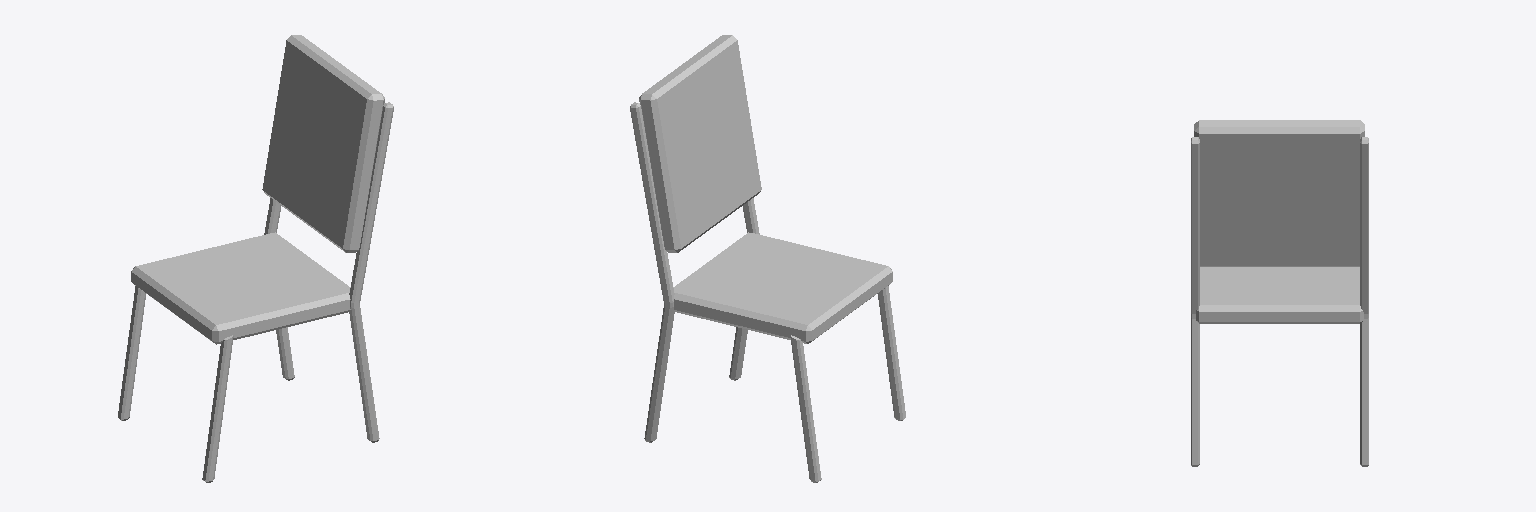
File: Seat.obj
The picture shows the model from 3 angles: view 1: azimuth 30°, elevation 25°; view 2: azimuth 150°, elevation 25°; view 3: azimuth 270°, elevation 25°; orthographic projection.
Parts seen in each view (by area): view 1: Seat; view 2: Seat; view 3: Seat.
Part boxes in pixels (left/top/right/bottom): Seat: left=118, top=35, right=393, bottom=482; Seat: left=630, top=35, right=905, bottom=482; Seat: left=1191, top=120, right=1368, bottom=466.
Bounding box in the file's own units: 2.56 × 4.46 × 2.09.